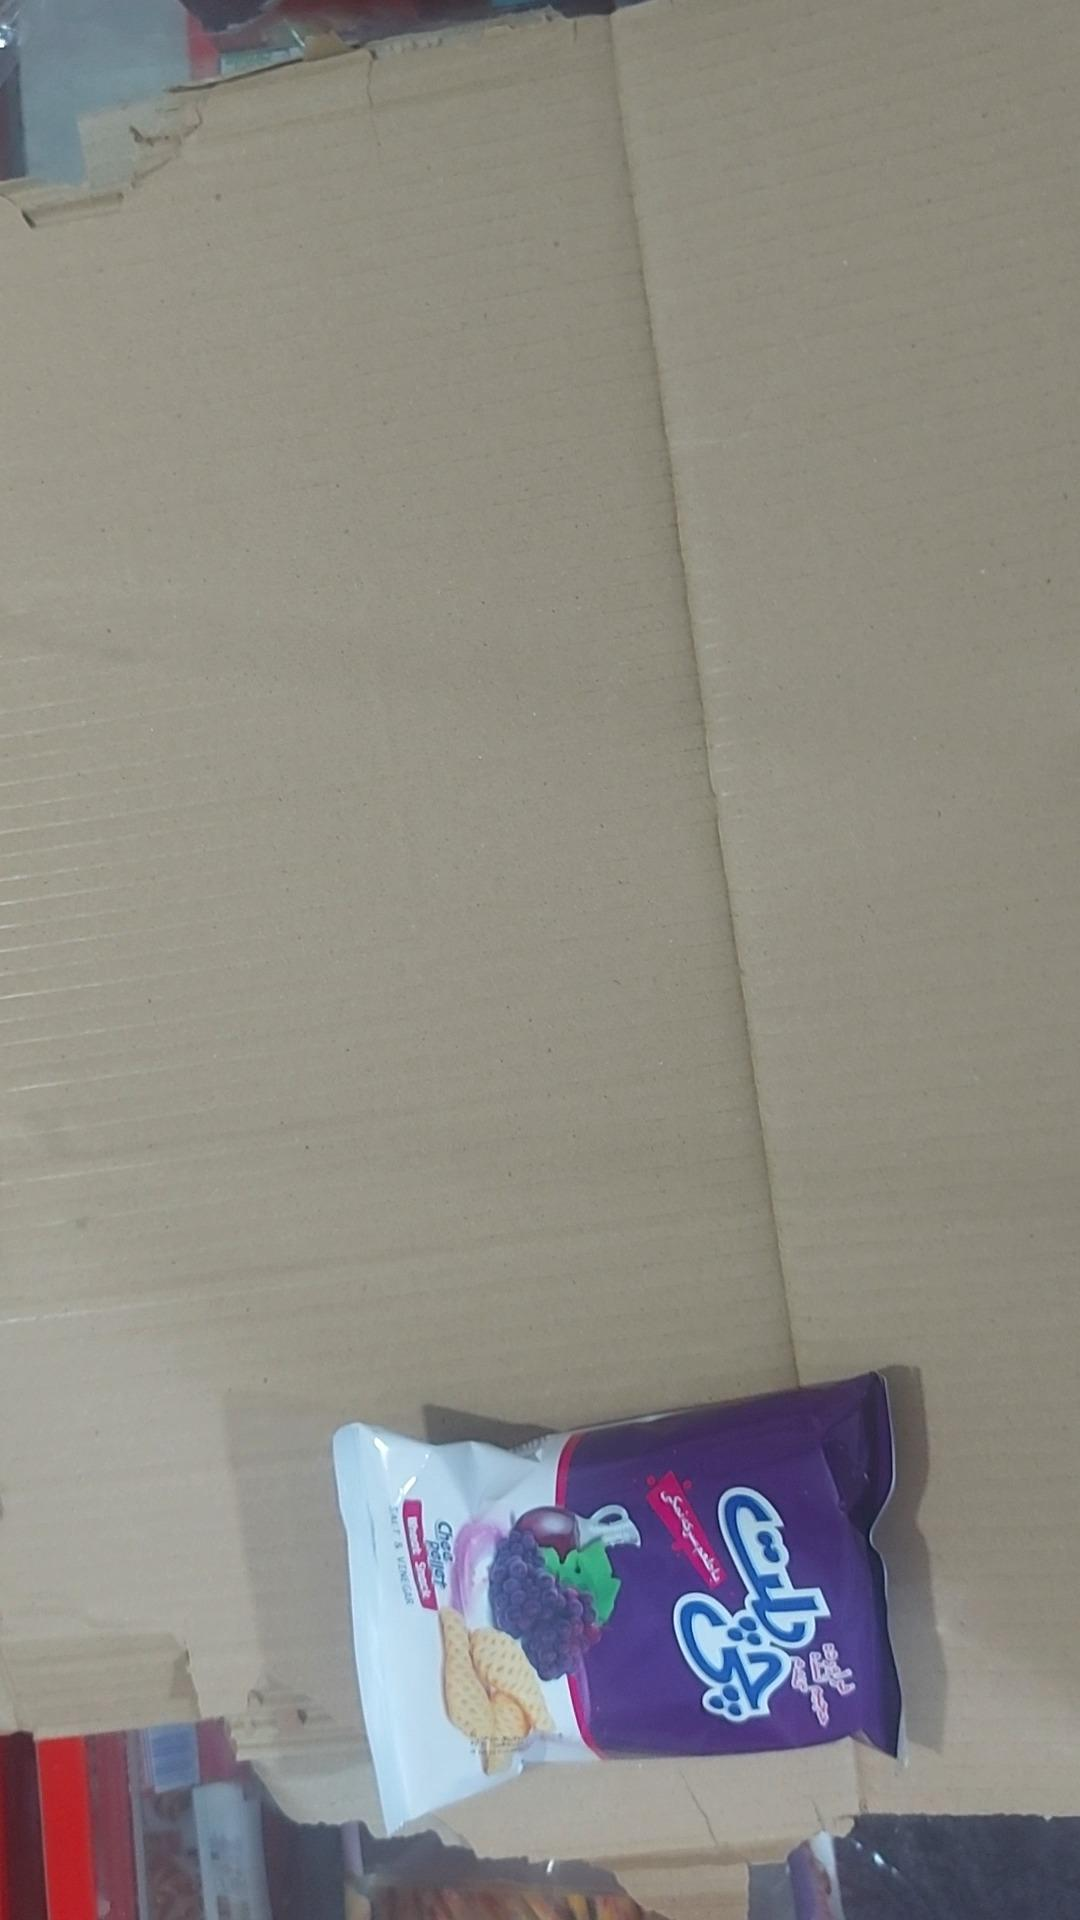Chee pellet vinegar: (334, 1373, 901, 1826)
